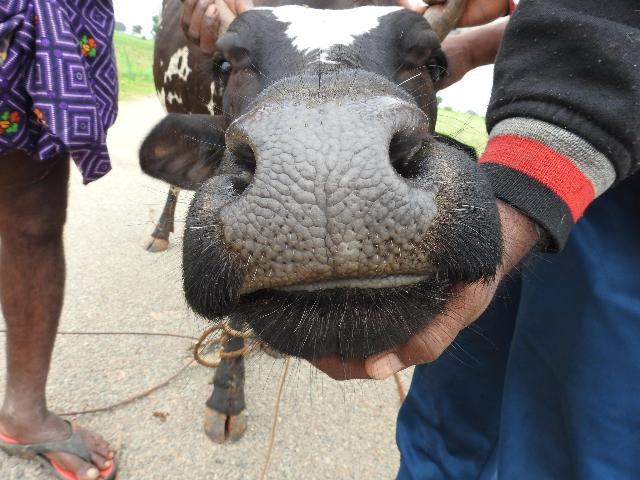Muzzle: (232, 117, 412, 279)
